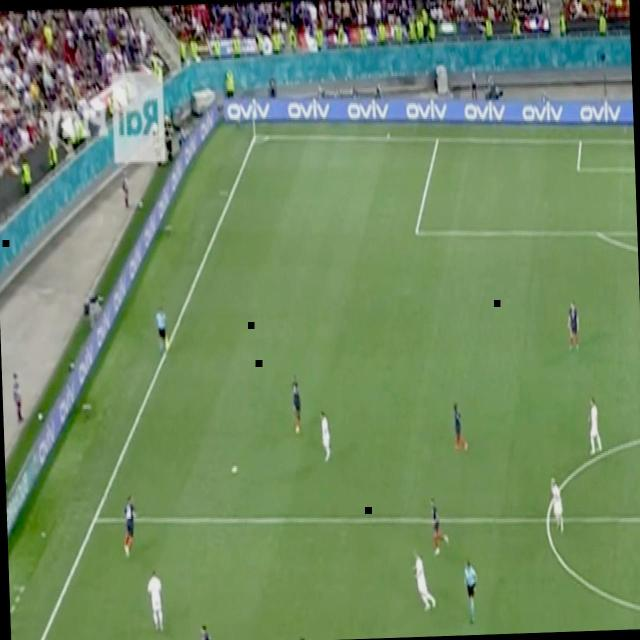ball: (227, 461, 240, 477)
player-white: (407, 545, 439, 615), (118, 491, 142, 564), (146, 562, 168, 636), (428, 494, 450, 564), (584, 392, 606, 460), (461, 557, 483, 625), (545, 474, 567, 538), (449, 395, 469, 457), (289, 371, 306, 439), (153, 298, 171, 360), (317, 406, 335, 464), (565, 298, 582, 354), (198, 619, 221, 640), (294, 632, 324, 640)
